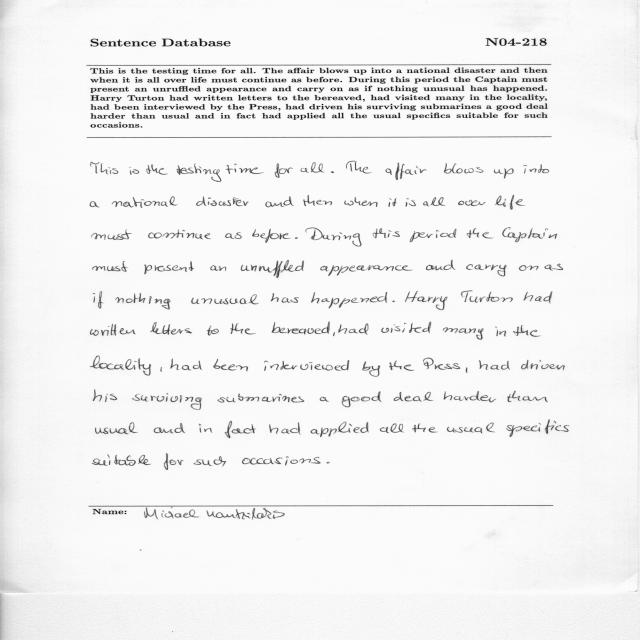word: (90, 356, 151, 376), (311, 292, 387, 308), (132, 393, 202, 410), (240, 260, 304, 278), (506, 420, 570, 437), (305, 228, 362, 247), (320, 265, 413, 276), (264, 360, 349, 371), (116, 293, 171, 309), (311, 422, 369, 437), (177, 163, 221, 182), (405, 291, 447, 310), (112, 196, 178, 208), (218, 394, 305, 403), (503, 228, 558, 242), (272, 322, 330, 335), (242, 457, 321, 466), (92, 454, 151, 466), (386, 163, 427, 180), (191, 295, 259, 305), (144, 261, 195, 274), (342, 392, 382, 408), (148, 230, 211, 240), (461, 291, 513, 303), (410, 229, 456, 242), (443, 391, 496, 402), (381, 322, 431, 333), (252, 229, 291, 243), (150, 322, 192, 335), (91, 324, 136, 336), (225, 421, 256, 438), (443, 327, 483, 340), (95, 422, 138, 434), (466, 264, 507, 276), (447, 423, 495, 433), (196, 197, 249, 206), (507, 391, 548, 402), (495, 195, 525, 210), (423, 358, 460, 370), (92, 229, 132, 240), (521, 360, 565, 370), (444, 163, 483, 174), (213, 359, 248, 371), (269, 422, 301, 435), (93, 261, 129, 272), (170, 359, 202, 371), (226, 164, 264, 174), (524, 291, 553, 304), (193, 456, 226, 467), (338, 323, 368, 335), (91, 162, 118, 175), (394, 392, 433, 401), (344, 197, 378, 207), (164, 453, 184, 470), (513, 325, 541, 337), (154, 423, 186, 433), (265, 197, 294, 208), (303, 195, 332, 206), (346, 161, 372, 173), (479, 360, 510, 370), (426, 260, 456, 270), (362, 361, 380, 377), (93, 390, 117, 402), (467, 228, 493, 239), (230, 324, 256, 335), (372, 228, 400, 238), (271, 293, 299, 303), (389, 360, 414, 371), (275, 163, 293, 178), (301, 162, 325, 173), (146, 164, 168, 175), (380, 424, 404, 434), (524, 165, 550, 174), (412, 424, 438, 433), (423, 197, 445, 206), (494, 169, 513, 179), (94, 291, 104, 309), (458, 200, 485, 206), (545, 264, 563, 271), (207, 326, 219, 336), (225, 232, 242, 239), (199, 424, 212, 433), (519, 265, 538, 271), (495, 327, 506, 337), (405, 198, 416, 207), (210, 265, 226, 271), (129, 167, 139, 175), (389, 198, 397, 207), (90, 201, 99, 207), (320, 397, 329, 402), (466, 367, 468, 373), (160, 367, 162, 372), (333, 332, 335, 336), (331, 171, 334, 173), (295, 237, 298, 239), (327, 462, 330, 464), (392, 301, 395, 302)
